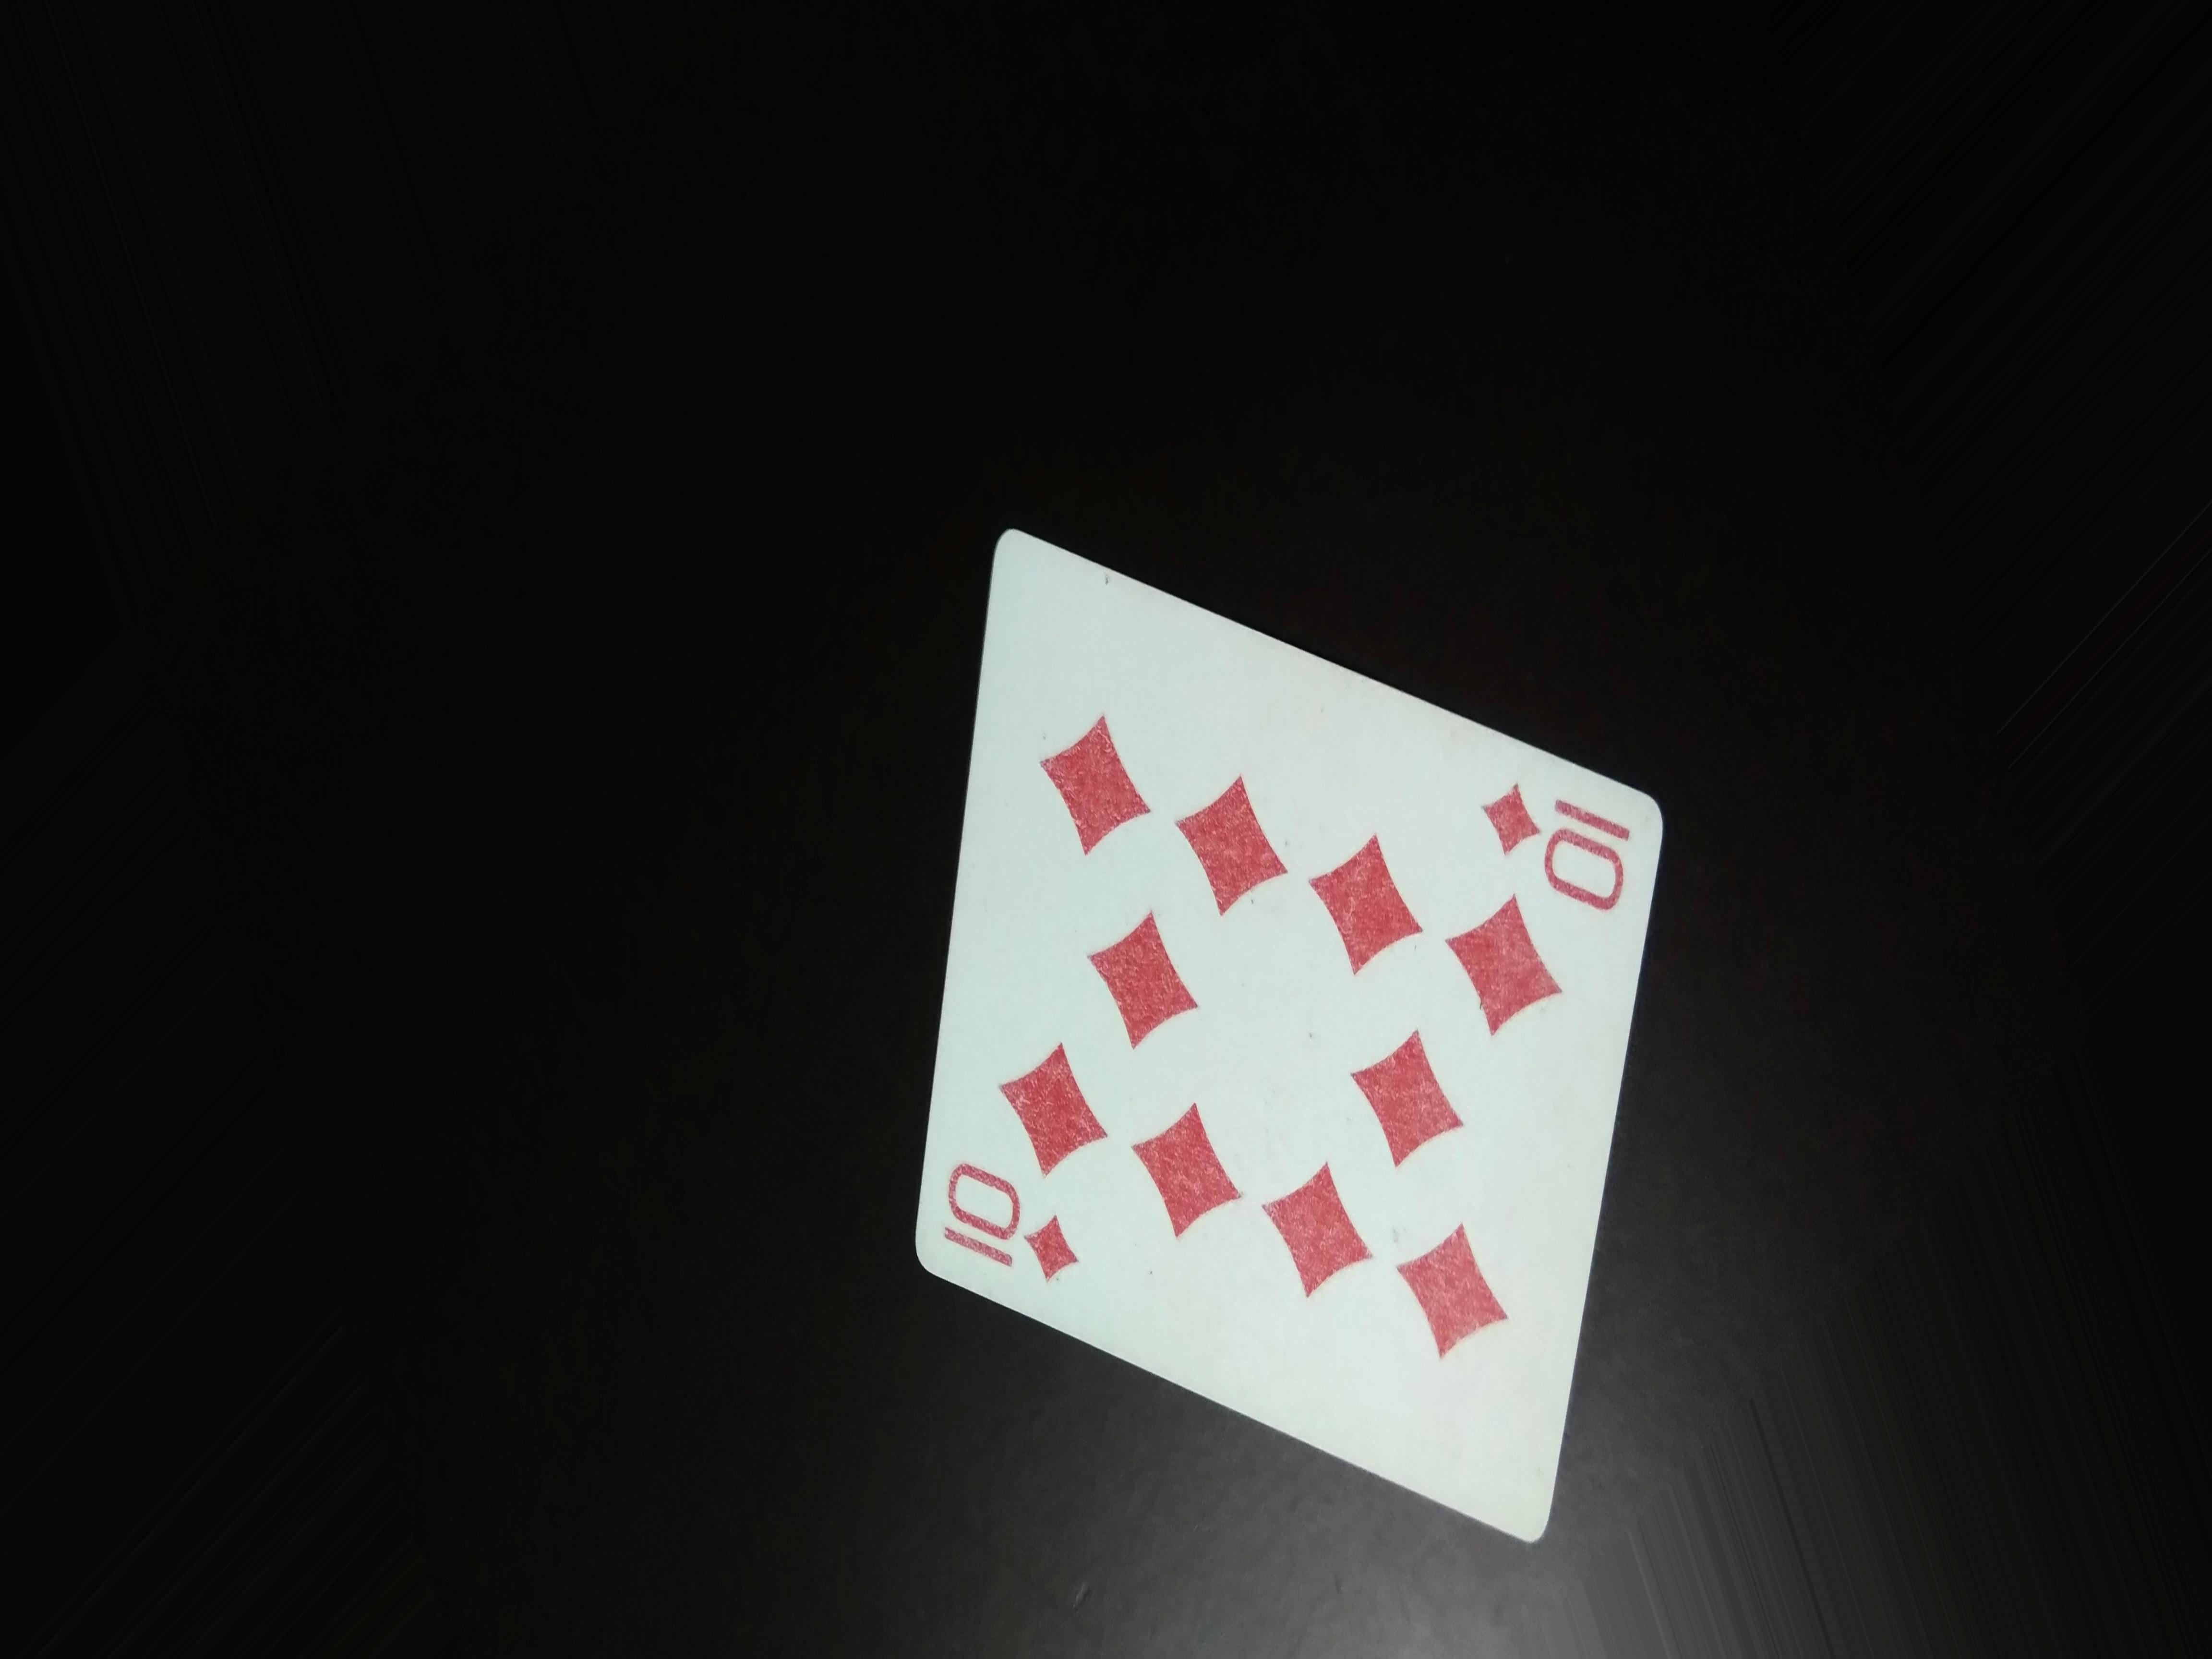10D: (1474, 772, 1653, 920)
